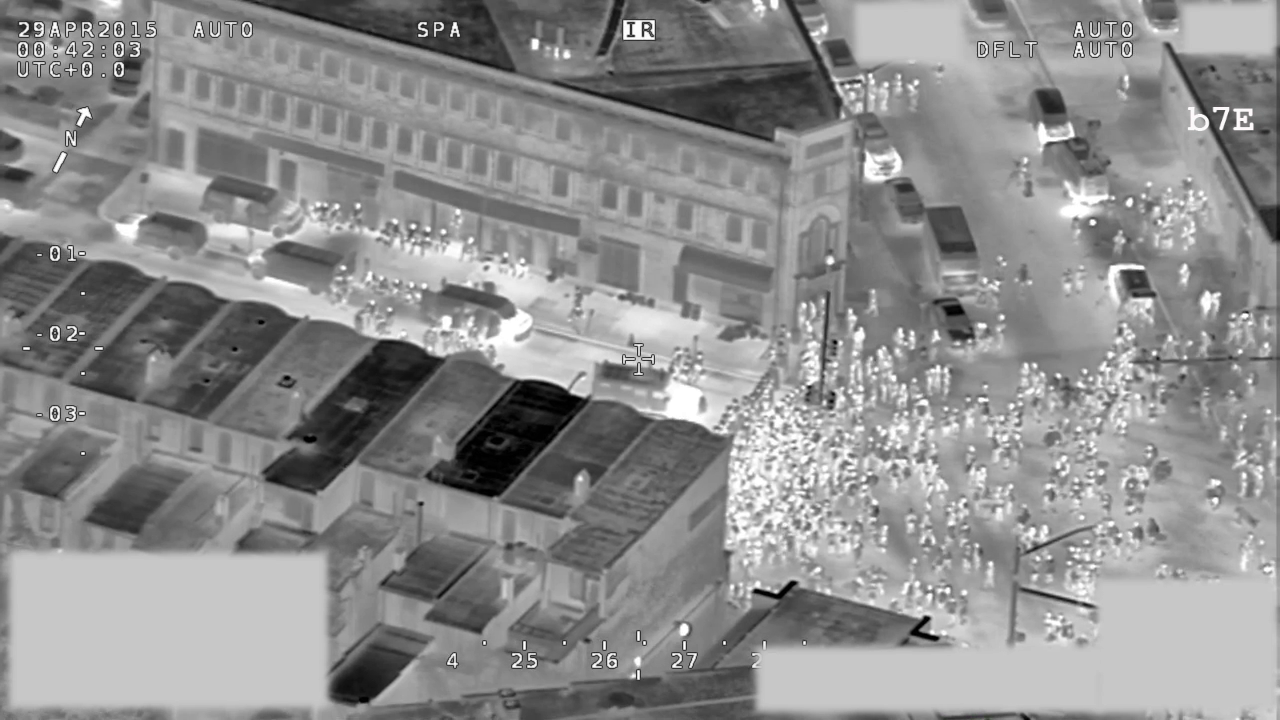vehicle: (419, 277, 536, 349), (588, 358, 713, 425), (198, 172, 312, 240), (244, 237, 352, 306), (917, 203, 984, 298), (112, 206, 212, 264), (1040, 136, 1117, 209), (848, 112, 905, 184), (1023, 80, 1079, 146), (1102, 258, 1161, 320), (809, 35, 872, 92), (924, 294, 980, 353), (882, 170, 928, 227), (110, 41, 153, 99)
